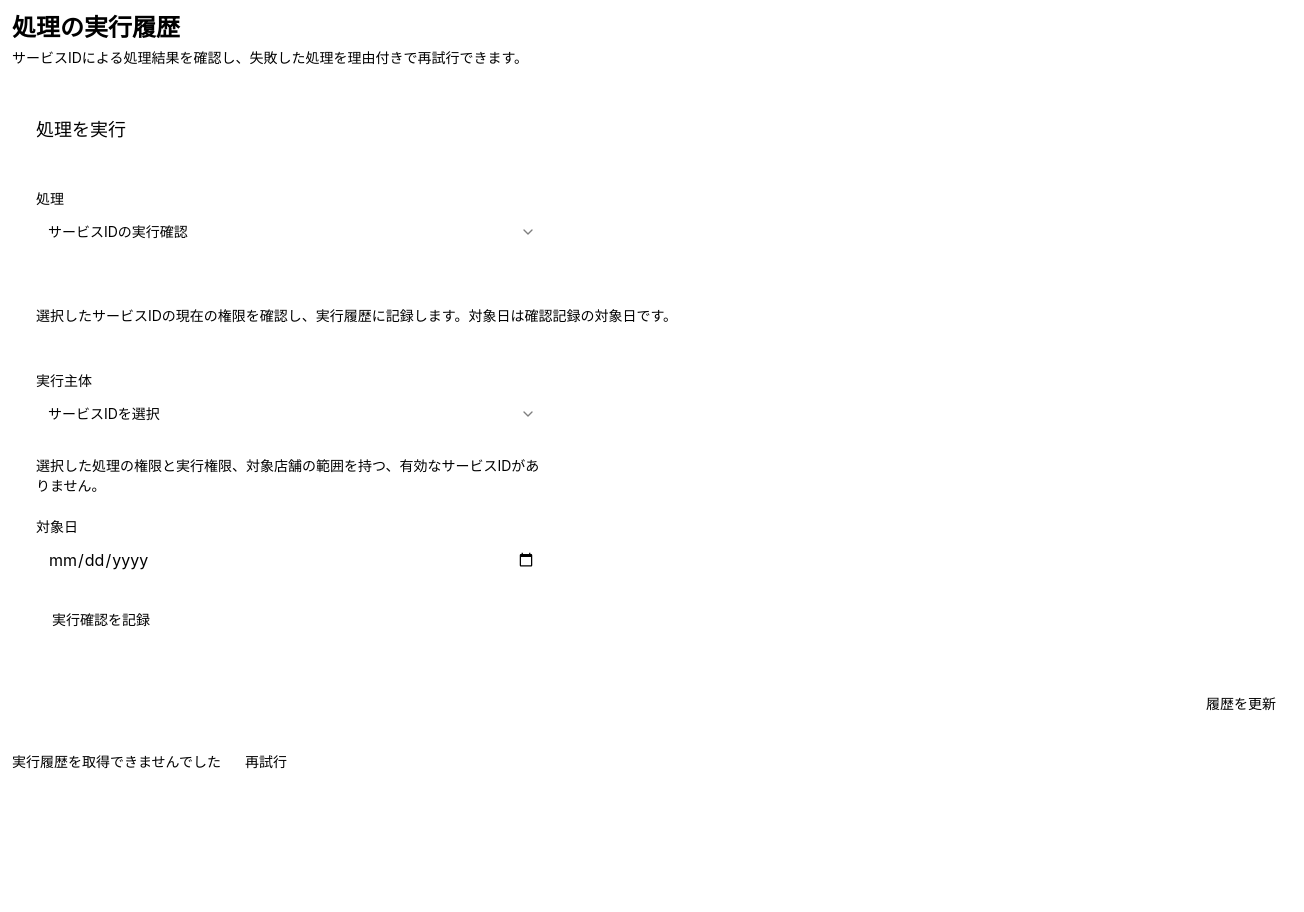
Test: 履歴取得の失敗を空一覧と区別し再取得できる
This screenshot has width=1304, height=912.
Expected: the message shows "実行履歴を取得できませんでした", [12,753,221,770]
Expected: the text "実行履歴がありません" is not shown
Click the button "再試行": coordinates (266, 762) [233,746,299,778]
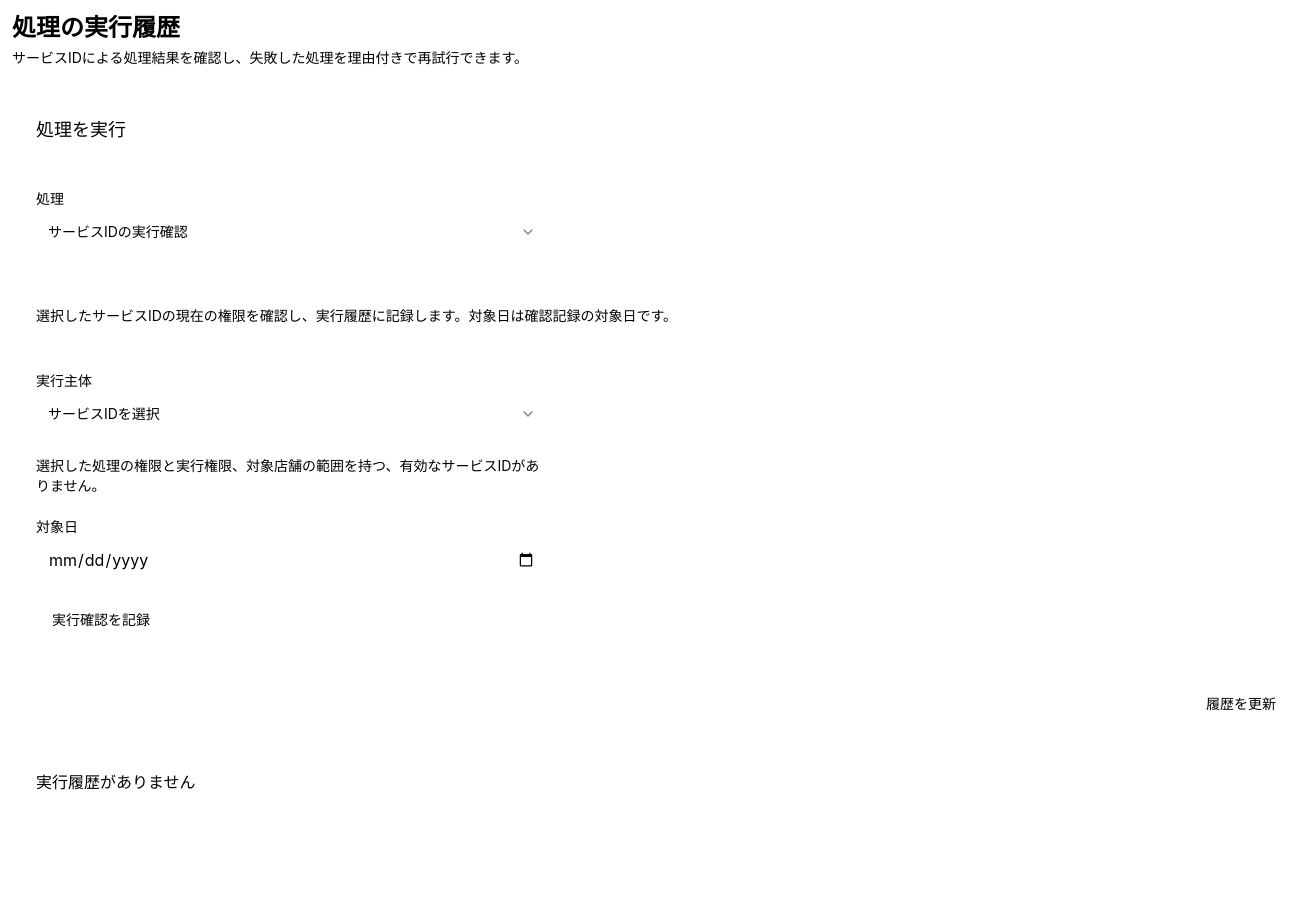
Expected: the text "実行履歴がありません" is shown, [36,772,196,792]
